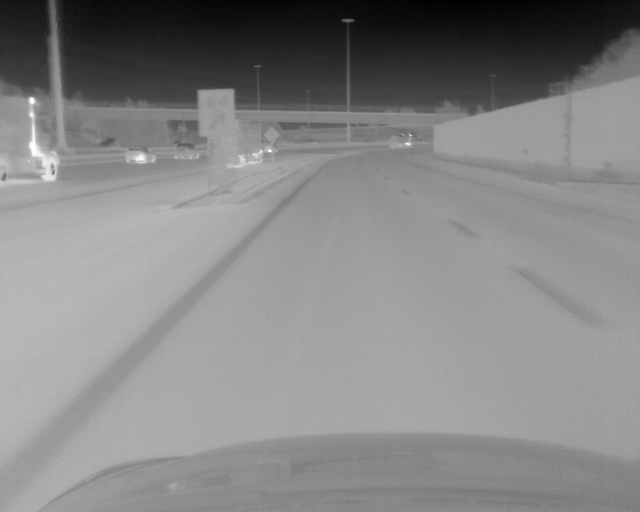animal: (172, 140, 200, 160)
car: (1, 94, 61, 182), (231, 120, 262, 167), (125, 147, 156, 164), (388, 133, 414, 148), (263, 143, 279, 154)
